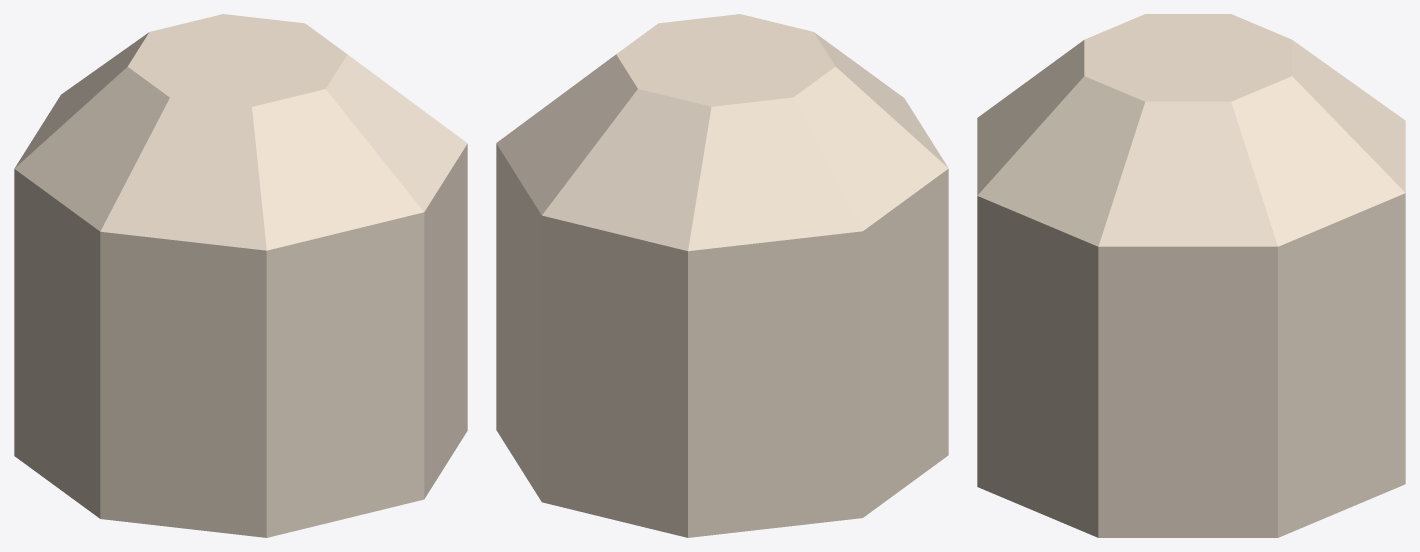
File: temple_Wall_End_Coping.glb
The picture shows the model from 3 angles, left to right: view 1: azimuth 30°, elevation 25°; view 2: azimuth 150°, elevation 25°; view 3: azimuth 270°, elevation 25°; orthographic projection.
Parts seen in each view (by area): view 1: object1; view 2: object1; view 3: object1.
Part boxes in pixels (x1,y1,x2,y2): object1: (14,14,467,537); object1: (496,14,948,537); object1: (977,14,1405,537).
Size of the model in its own units: 0.2 by 0.2 by 0.2.
